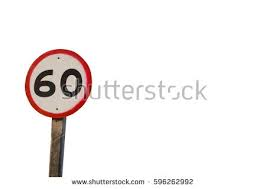Speed_limit_60km: (24, 48, 92, 117)
